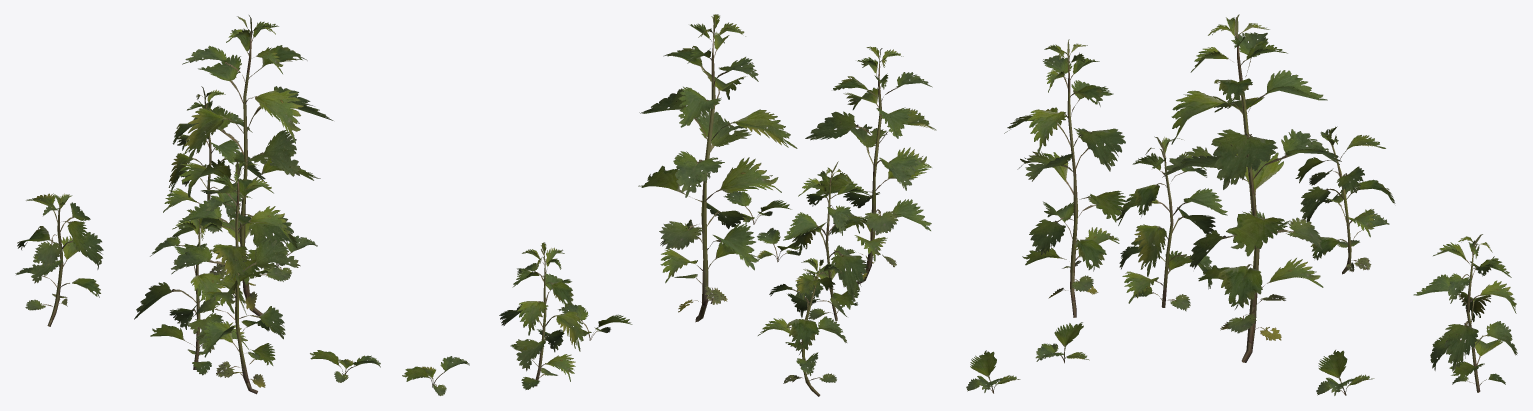
File: Scan_Nettles_B.fbx
3 renders of one model, left to right at view 1: azimuth 30°, elevation 25°; view 2: azimuth 150°, elevation 25°; view 3: azimuth 270°, elevation 25°, orthographic. The views are drawn at different scales.
Parts seen in each view (by area): view 1: Scan_Nettles_B_LOD0; view 2: Scan_Nettles_B_LOD0; view 3: Scan_Nettles_B_LOD0.
Part boxes in pixels (<box>): Scan_Nettles_B_LOD0: <box>15,15,469,395</box>; Scan_Nettles_B_LOD0: <box>499,14,936,396</box>; Scan_Nettles_B_LOD0: <box>966,14,1517,395</box>.
Size of what is drawn, in the model's own units: 0.5656 by 0.5791 by 0.8489.
